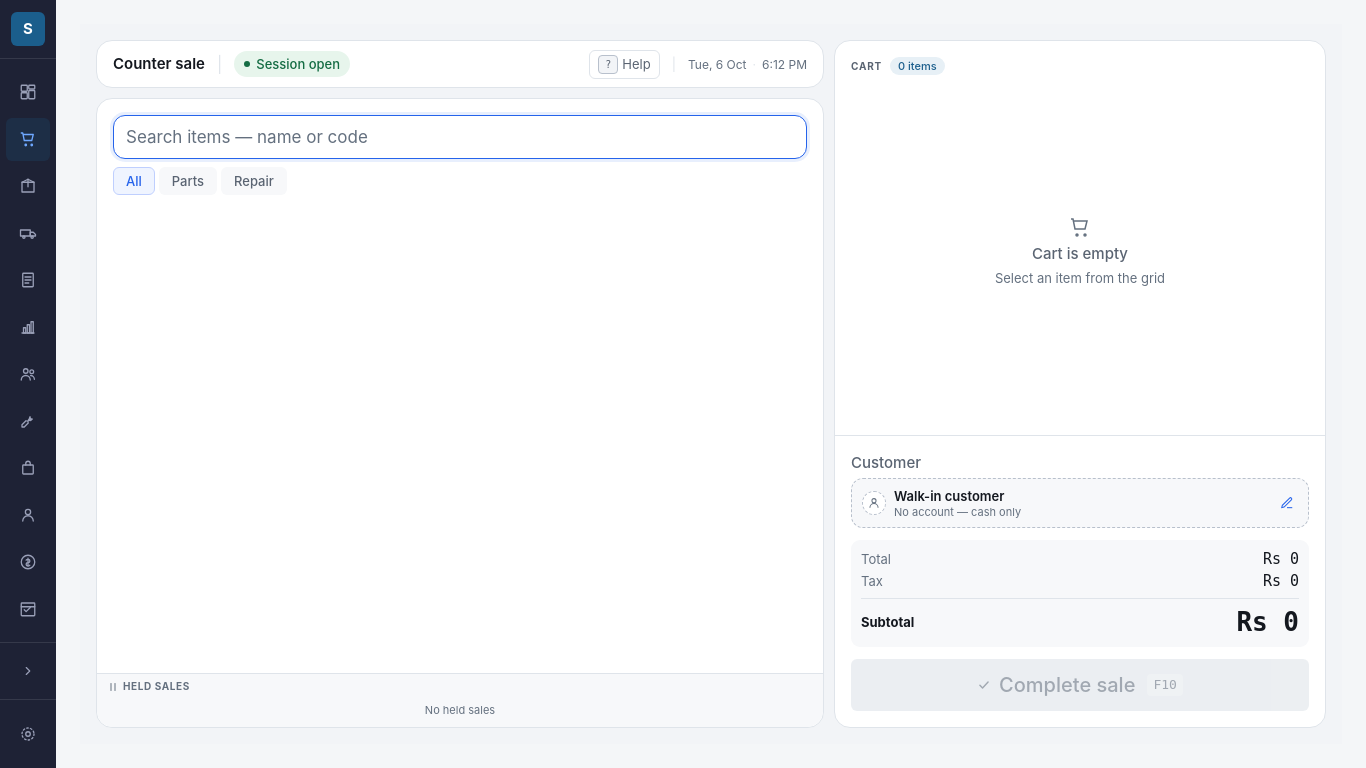
Test: App — Dashboard low-stock widget navigates to Items with the filter pre-applied › a later, direct sidebar visit to Items (not via the widget) opens with the checkbox unchecked
Click the button named "Dashboard" at [28, 92], box [6,71,50,114]
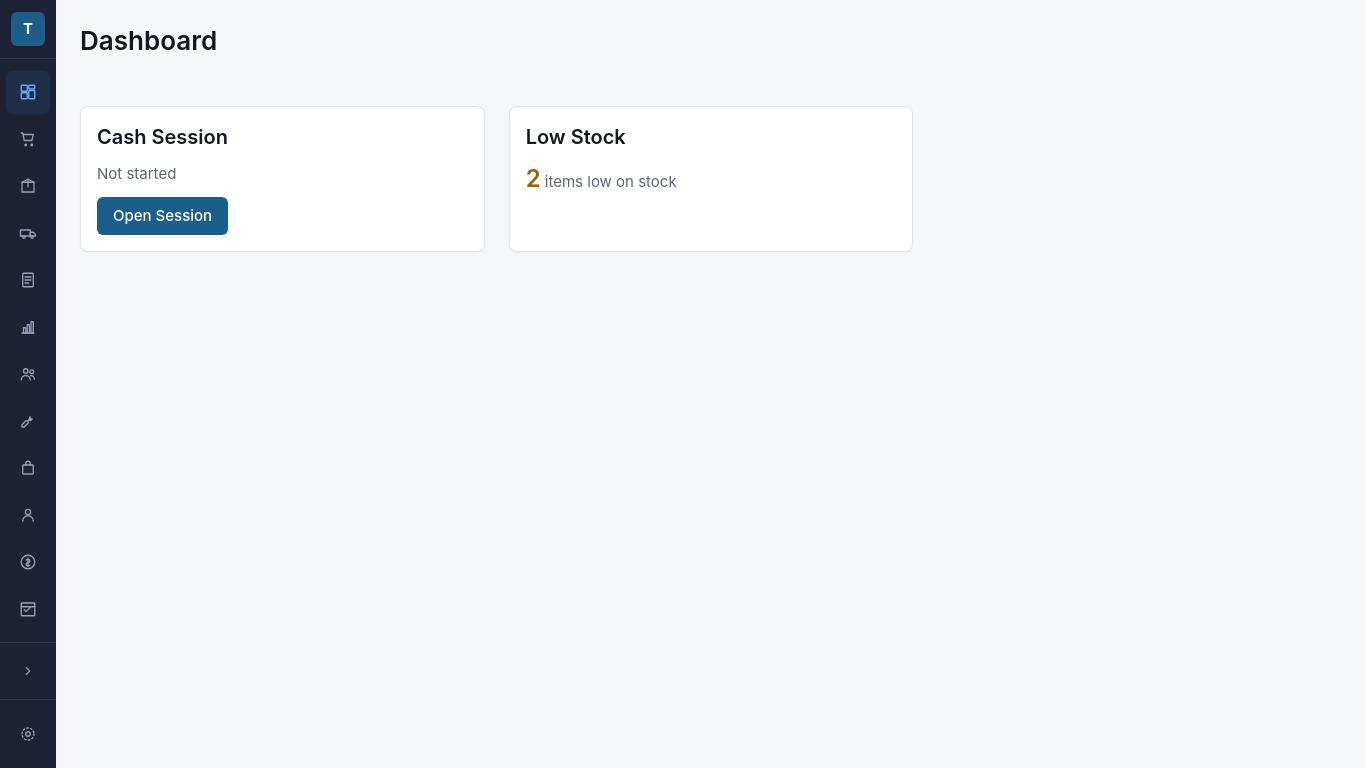
Click the button "2 items low on stock" at [601, 179], box [526,163,677,195]
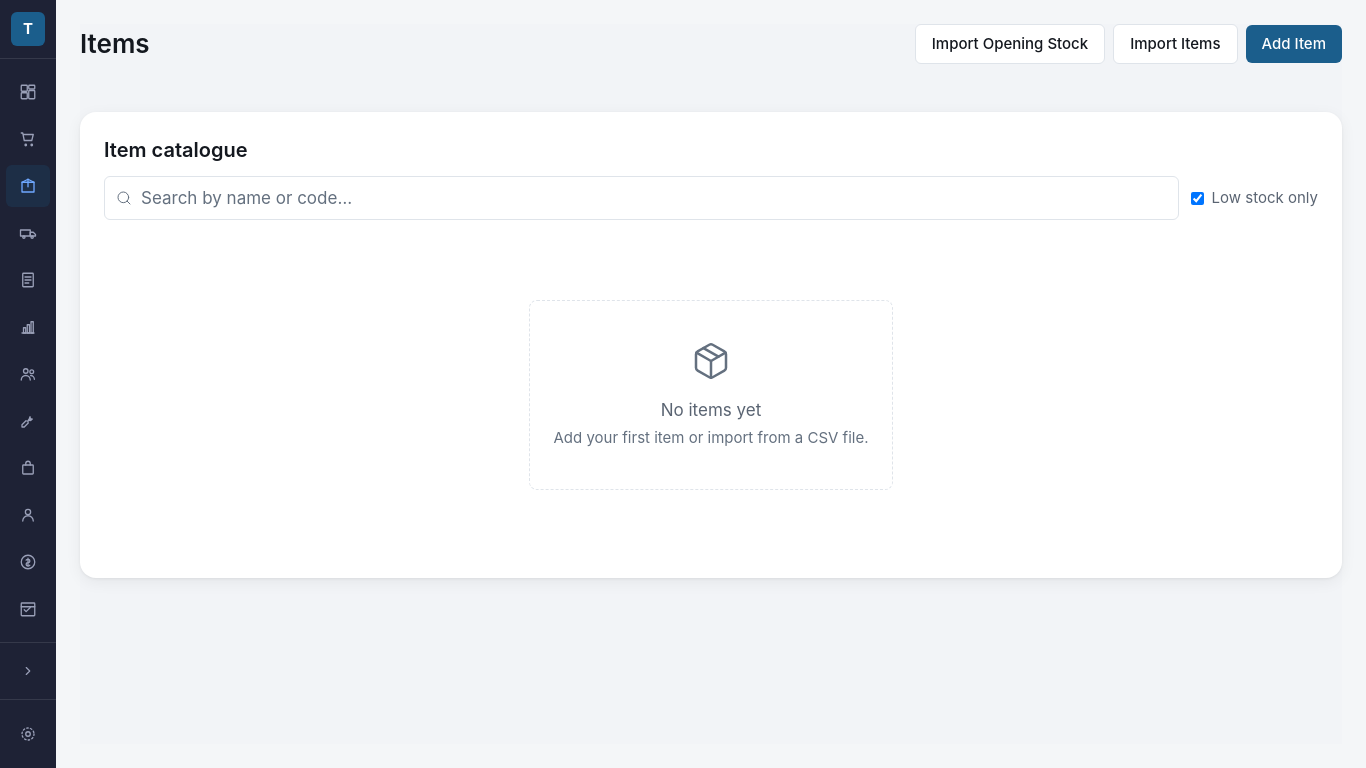
Expected: the checkbox labelled "Low stock only" is checked, [1191,192,1204,204]
Click the button named "Sales · Alt+1" at [28, 139], box [6,118,50,161]
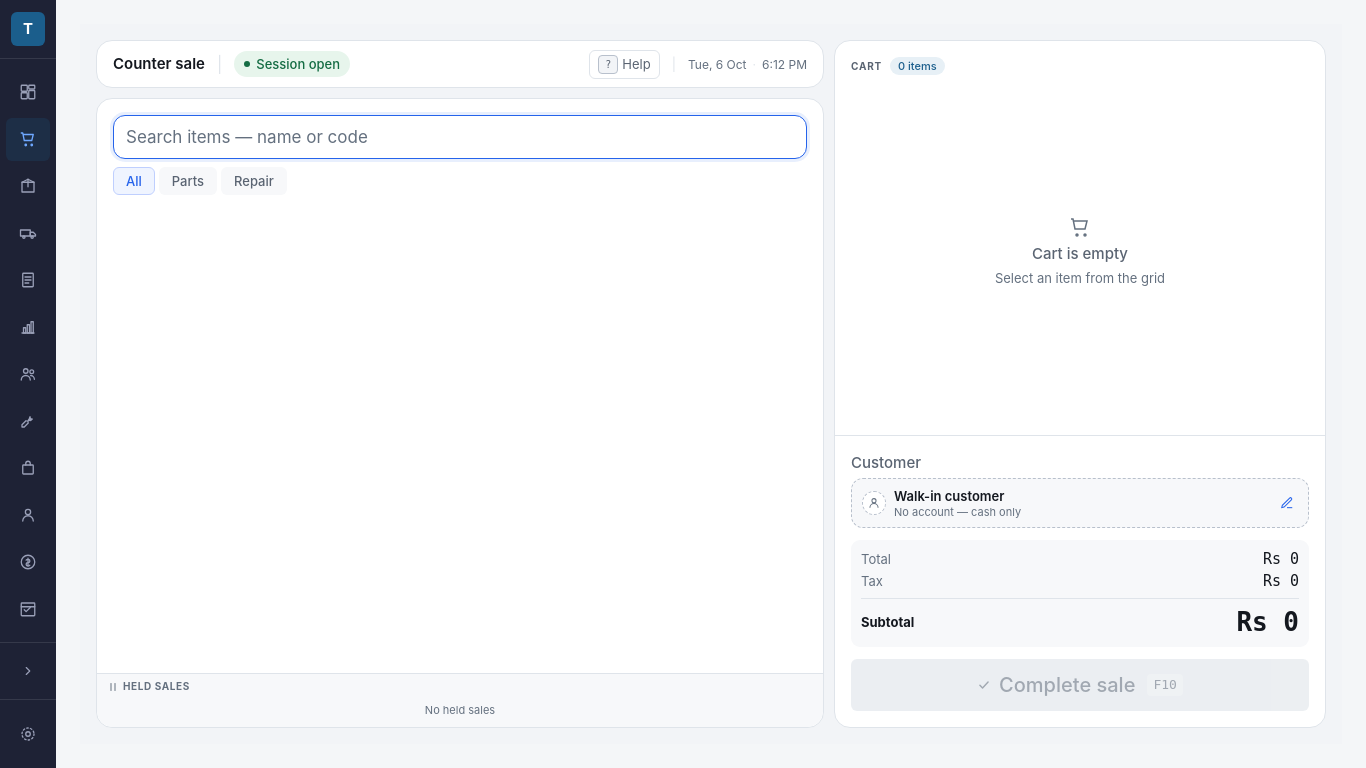
Click the button named "Items · Alt+2" at [28, 186], box [6,165,50,207]
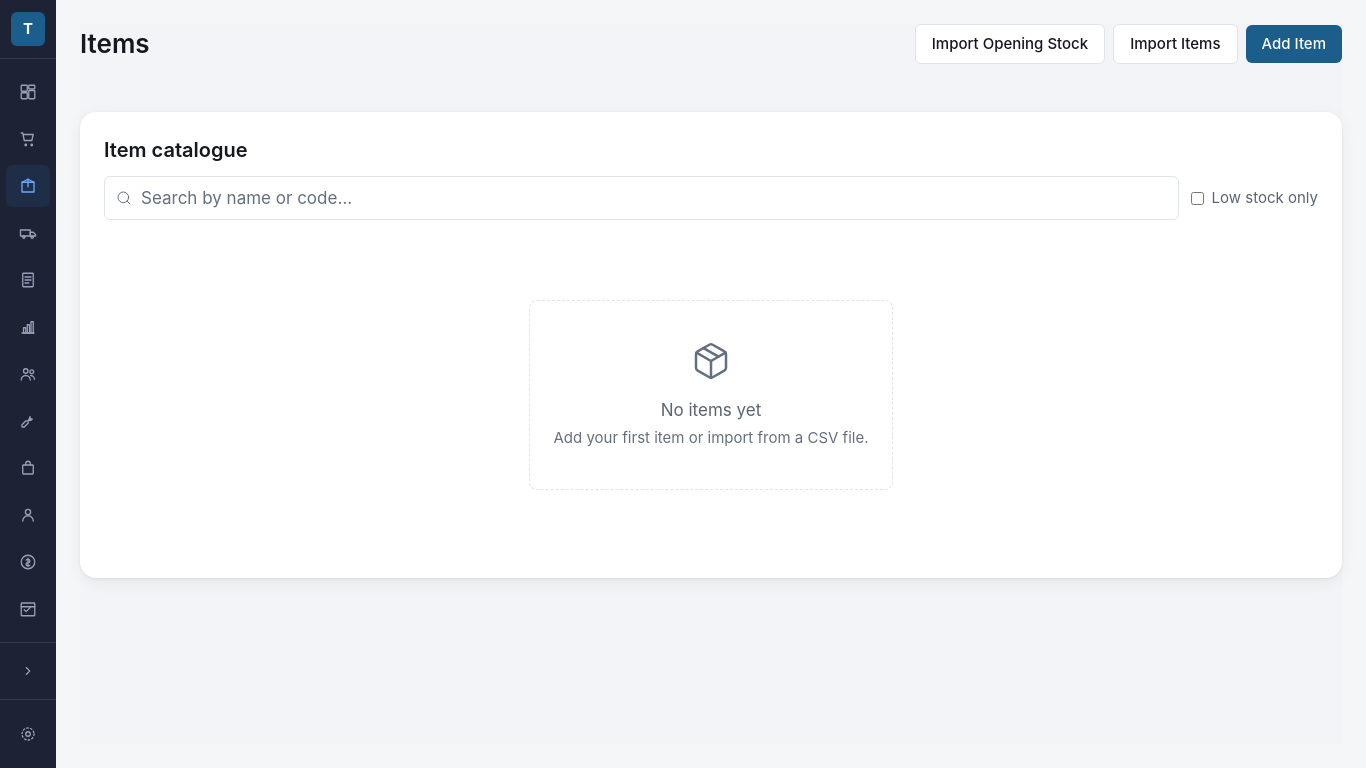
Expected: the checkbox labelled "Low stock only" is not checked, [1191,192,1204,204]
